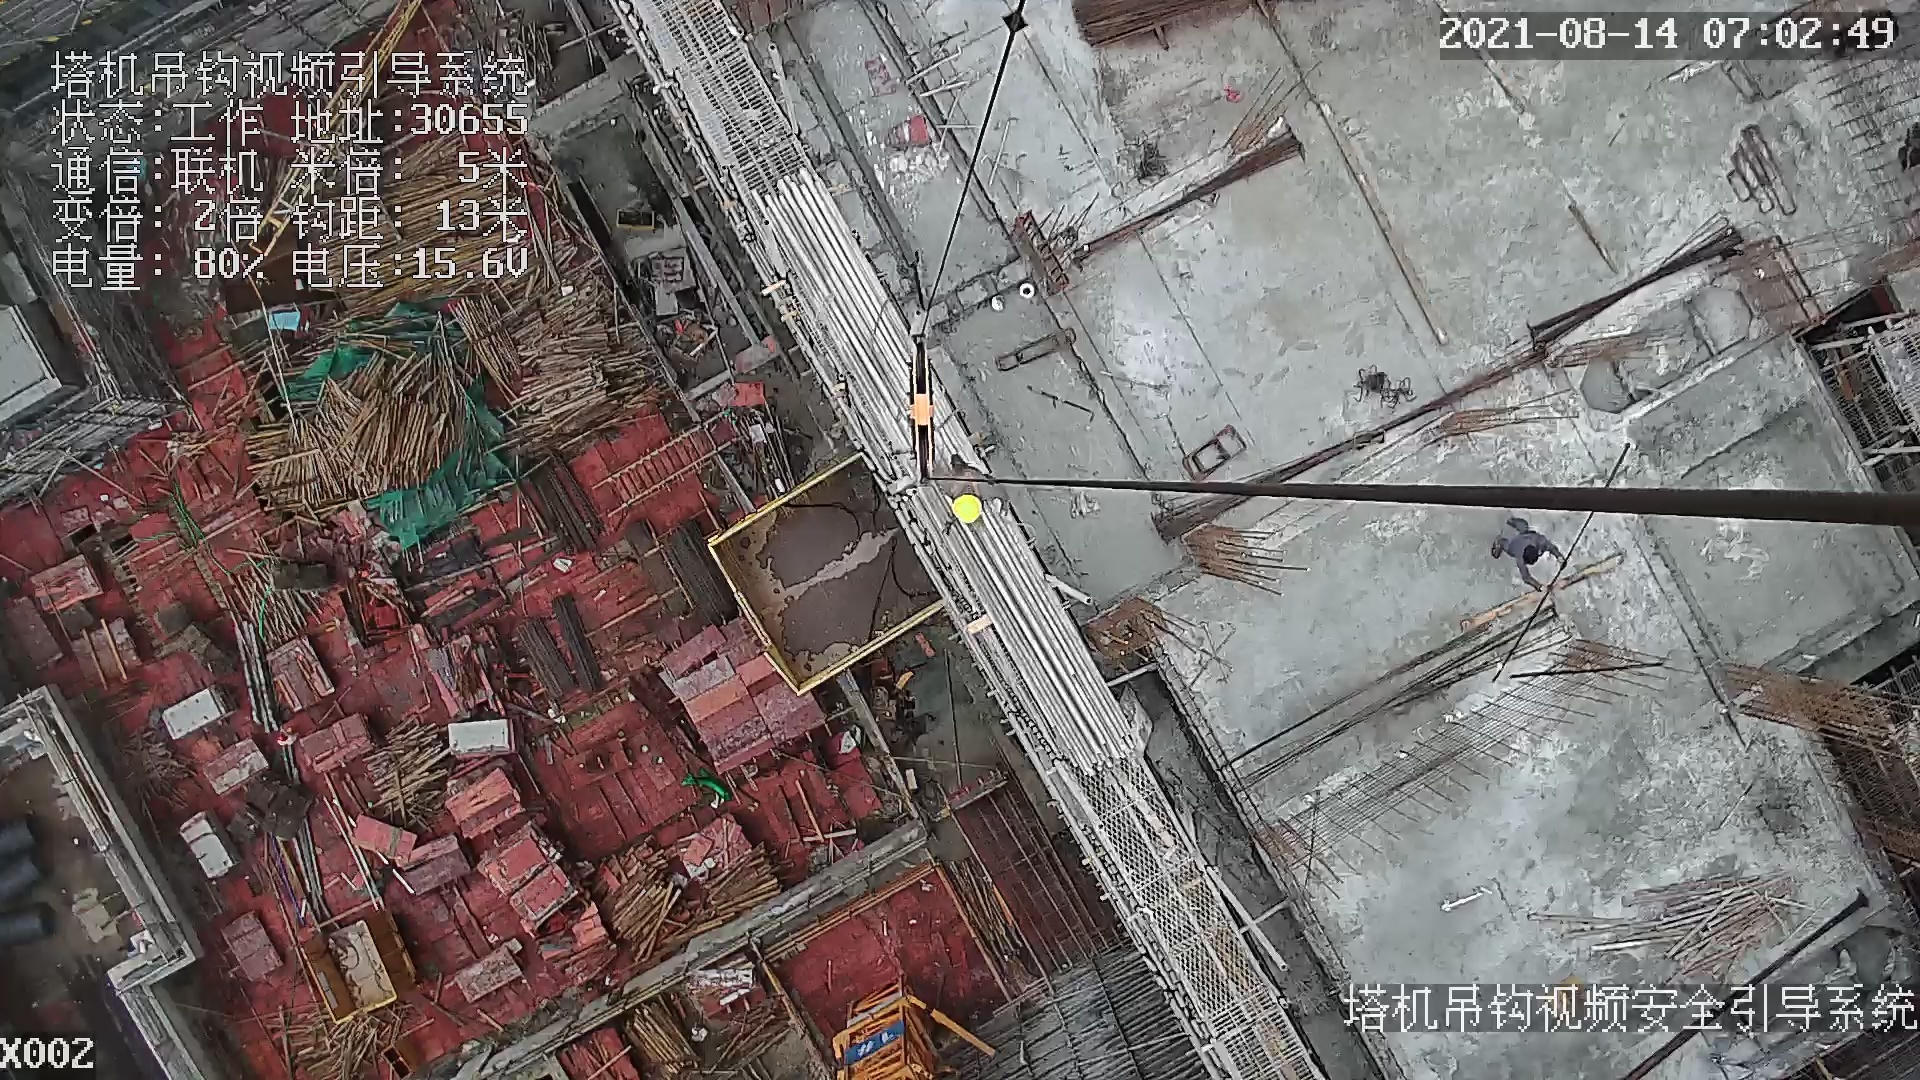helmet: (951, 492, 983, 526)
hook: (906, 333, 955, 486)
person: (1492, 517, 1564, 590), (938, 458, 1010, 530)
slogan: (844, 1011, 898, 1062)
